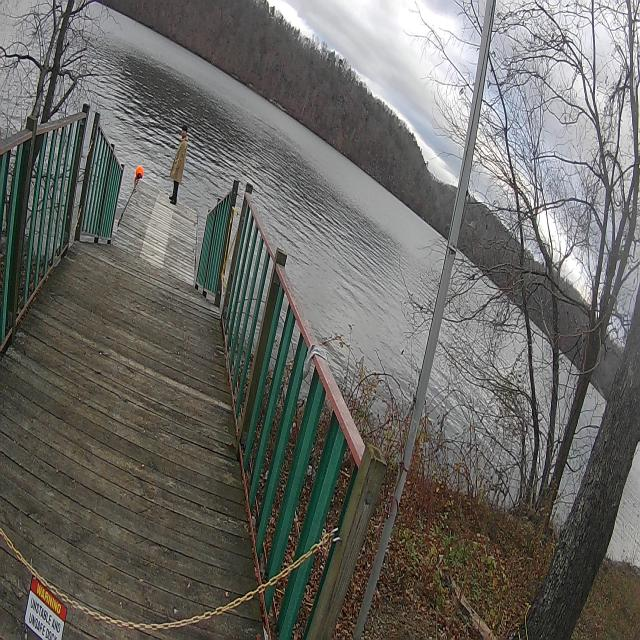Buoy: (129, 156, 147, 193)
